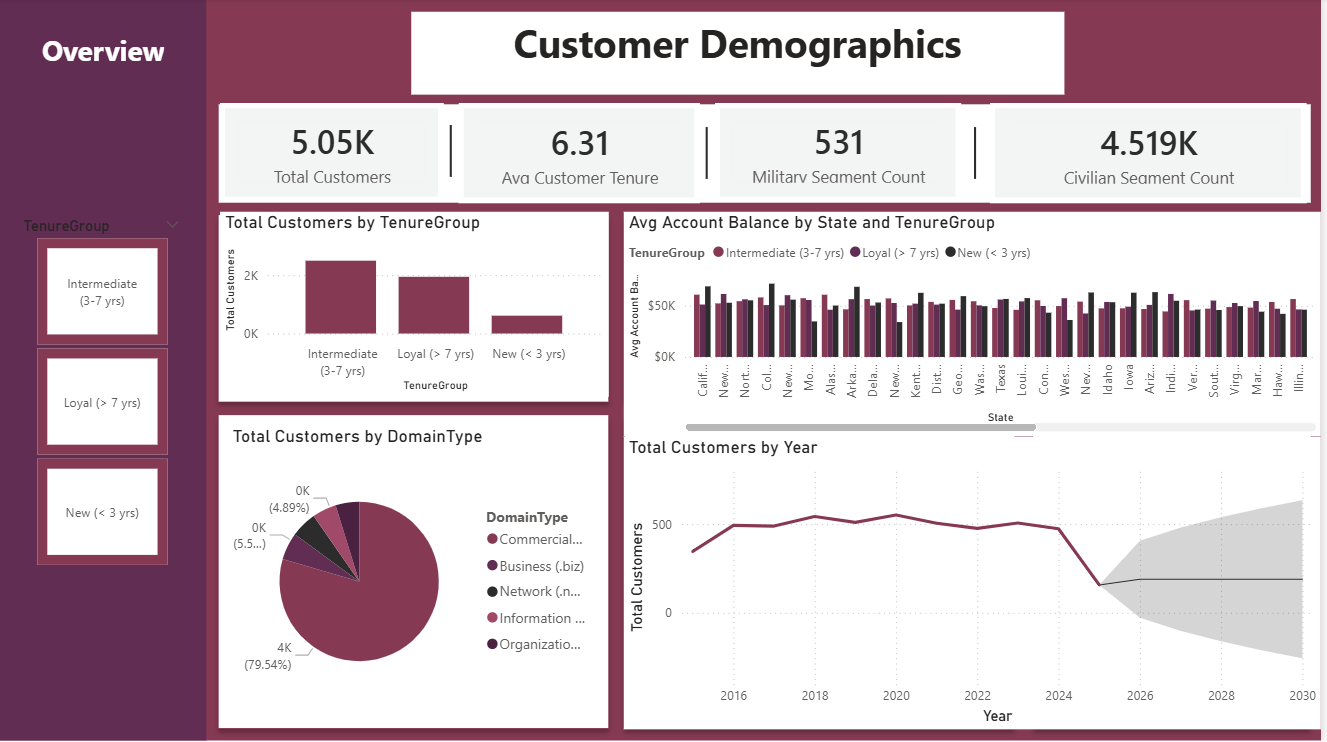

The dashboard page shown, as its layout file describes it:
{"tool":"powerbi","page":{"name":"Customer Demographics","canvas":[1280,720],"ordinal":2},"visuals":[{"type":"textbox","box":[401.4,12.9,630,80],"z":0},{"type":"cardVisual","fields":{"Data":["_Measures.Total Customers"]},"box":[217.2,101.3,216,95.3],"z":1000},{"type":"cardVisual","fields":{"Data":["_Measures.Avg Customer Tenure"]},"box":[447.6,101.3,232.8,96.5],"z":2000},{"type":"cardVisual","fields":{"Data":["_Measures.Military Segment Count"]},"box":[694.9,101.3,237.7,95.3],"z":3000},{"type":"cardVisual","fields":{"Data":["_Measures.Civilian Segment Count"]},"box":[960.3,101.3,305.2,96.5],"z":4000},{"type":"columnChart","fields":{"Y":["_Measures.Total Customers"],"Category":["customers - customers.TenureGroup"]},"box":[217.2,206.3,375.2,178.6],"z":5000},{"type":"pieChart","fields":{"Category":["customers - customers.DomainType"],"Y":["_Measures.Total Customers"]},"box":[224.4,412.6,359.5,282.3],"z":6000},{"type":"lineChart","fields":{"Y":["_Measures.Total Customers"],"Category":["customers - customers.JoinDate.Variation.Date Hierarchy.Year"]},"box":[606.8,423.5,673.2,282.3],"z":7000},{"type":"clusteredColumnChart","fields":{"Y":["_Measures.Avg Account Balance"],"Category":["customers - customers.State"],"Series":["customers - customers.TenureGroup"]},"box":[606.8,206.3,673.2,217.2],"z":8000},{"type":"slicer","fields":{"Values":["customers - customers.TenureGroup"]},"box":[14.8,205.7,176.1,347.8],"z":8001},{"type":"actionButton","box":[19.2,13.3,170.2,72.5],"z":8002}]}

Visuals, with their boxes in screenshot pixels (x1, y1, x2, y2), scaled from the page's 1280x720 canvas onto the 1327x742 screenshot:
textbox: pyautogui.locateOnScreen(416, 13, 1069, 96)
cardVisual - _Measures.Total Customers: pyautogui.locateOnScreen(225, 104, 449, 203)
cardVisual - _Measures.Avg Customer Tenure: pyautogui.locateOnScreen(464, 104, 705, 204)
cardVisual - _Measures.Military Segment Count: pyautogui.locateOnScreen(720, 104, 967, 203)
cardVisual - _Measures.Civilian Segment Count: pyautogui.locateOnScreen(996, 104, 1312, 204)
columnChart - _Measures.Total Customers x customers - customers.TenureGroup: pyautogui.locateOnScreen(225, 213, 614, 397)
pieChart - customers - customers.DomainType x _Measures.Total Customers: pyautogui.locateOnScreen(233, 425, 605, 716)
lineChart - _Measures.Total Customers x customers - customers.JoinDate.Variation.Date Hierarchy.Year: pyautogui.locateOnScreen(629, 436, 1326, 727)
clusteredColumnChart - _Measures.Avg Account Balance x customers - customers.State: pyautogui.locateOnScreen(629, 213, 1326, 436)
slicer - customers - customers.TenureGroup: pyautogui.locateOnScreen(15, 212, 198, 570)
actionButton: pyautogui.locateOnScreen(20, 14, 196, 88)
